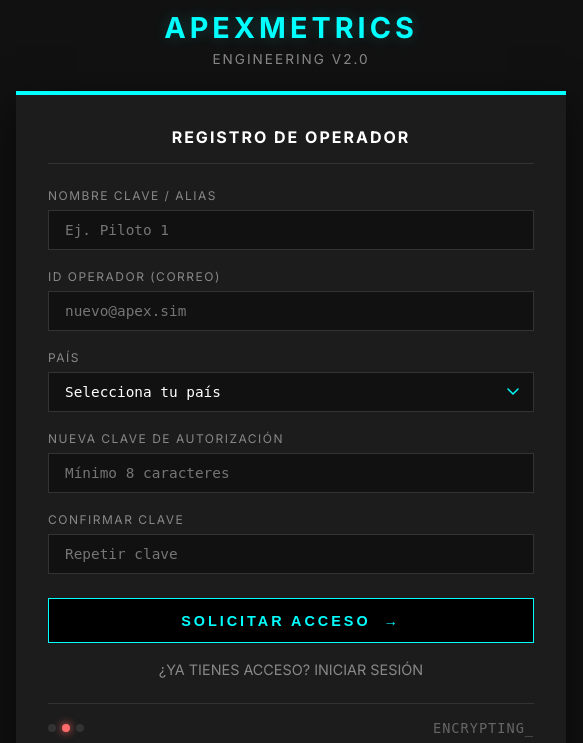
Test: Register — validaciones de formulario › muestra error si la contraseña tiene menos de 8 caracteres
Type "PilotoTest" into the field with placeholder "Ej. Piloto 1".
click(291, 230); type("PilotoTest")  # box [48, 210, 534, 250]
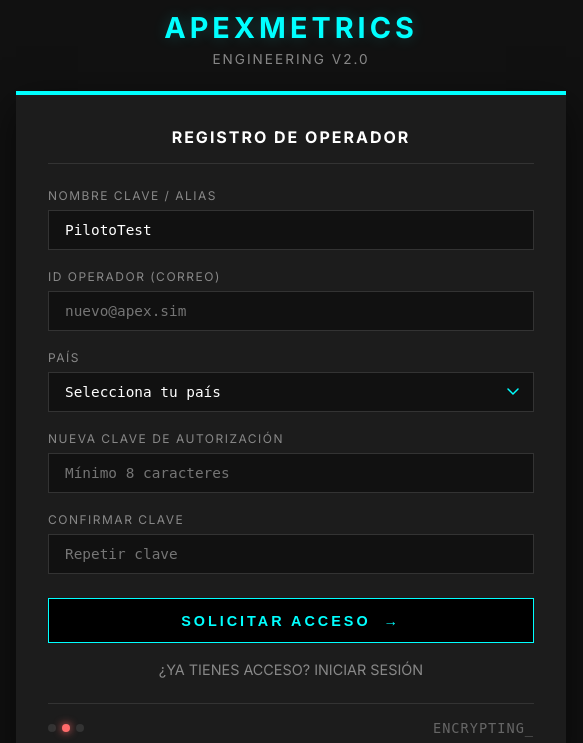
Type "test@apex.sim" into the field with placeholder "nuevo@apex.sim".
click(291, 311); type("test@apex.sim")  # box [48, 291, 534, 331]
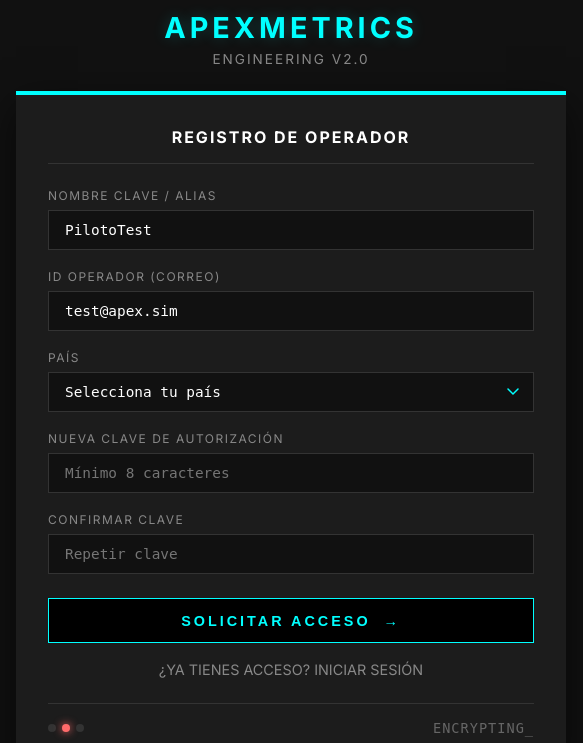
Select "Chile" in the dropdown at [291, 392], box [48, 372, 534, 412]
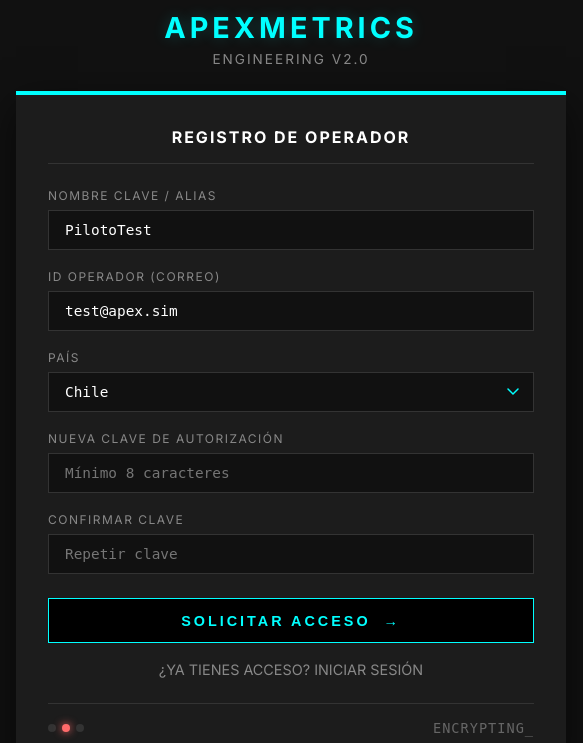
Type "corta" into the password field with placeholder "Mínimo 8 caracteres".
click(291, 473); type("corta")  # box [48, 453, 534, 493]
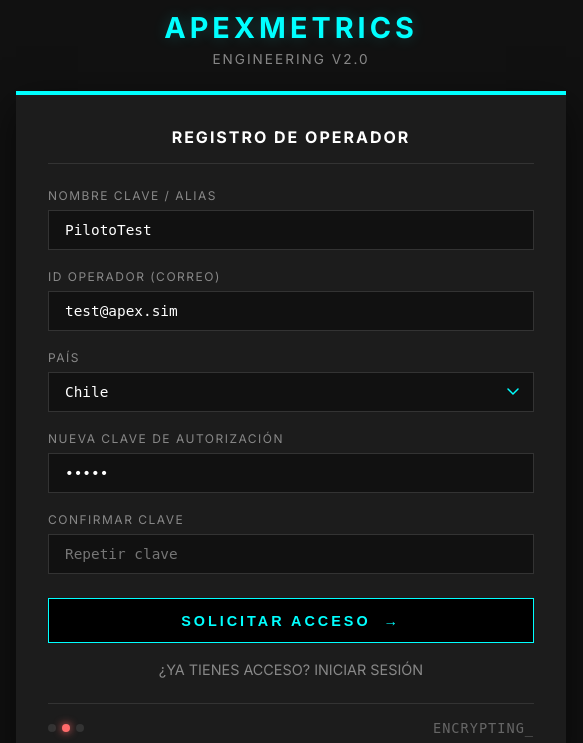
Type "corta" into the password field with placeholder "Repetir clave".
click(291, 554); type("corta")  # box [48, 534, 534, 574]
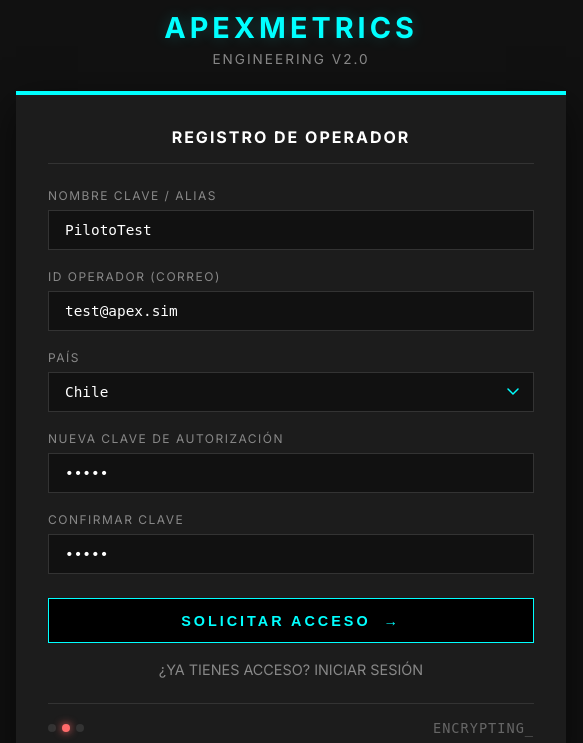
Click the button "SOLICITAR ACCESO →".
click(291, 621)  # box [48, 598, 534, 643]
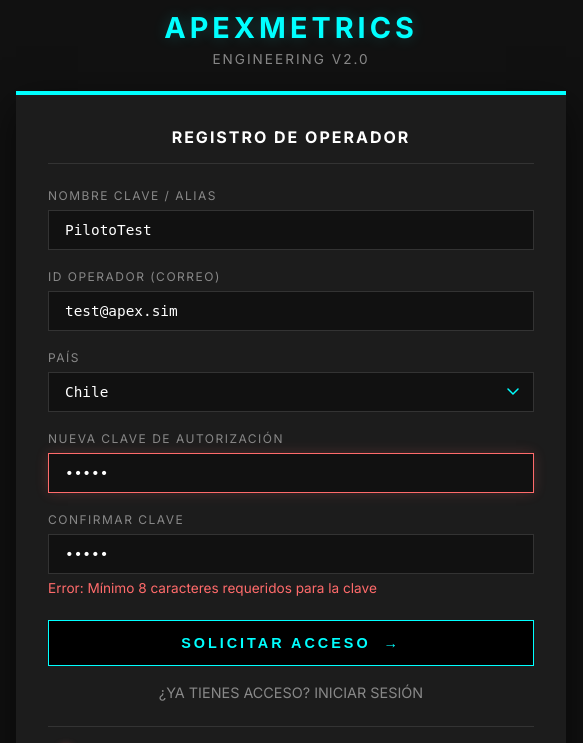
Expected: the text "Error: Mínimo 8 caracteres requeridos para la clave" is shown, [48, 580, 377, 596]
